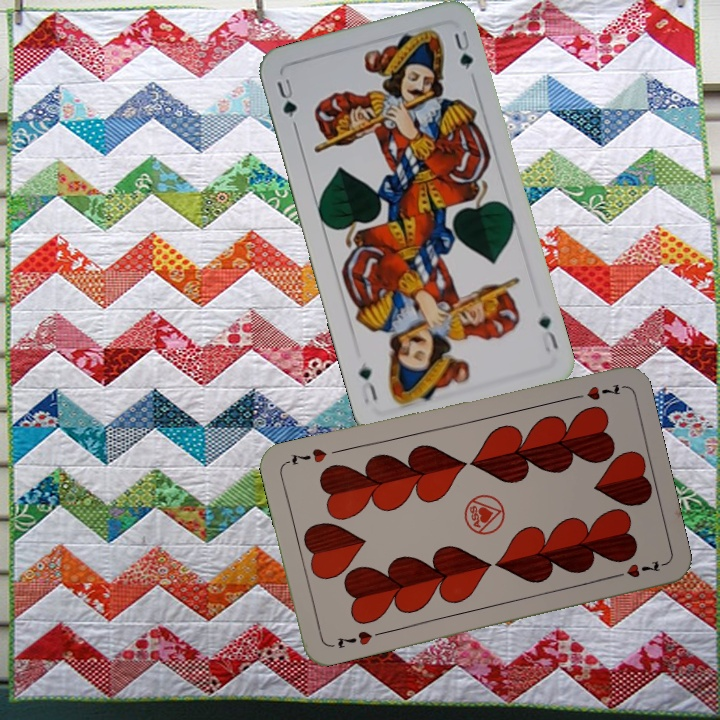GU: (272, 74, 300, 121), (534, 311, 561, 355)
H7: (566, 379, 625, 403), (332, 626, 375, 651)
